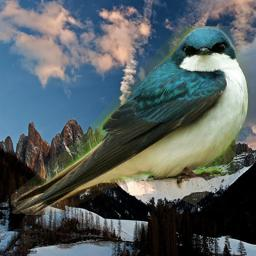Swallow: (11, 26, 251, 215)
